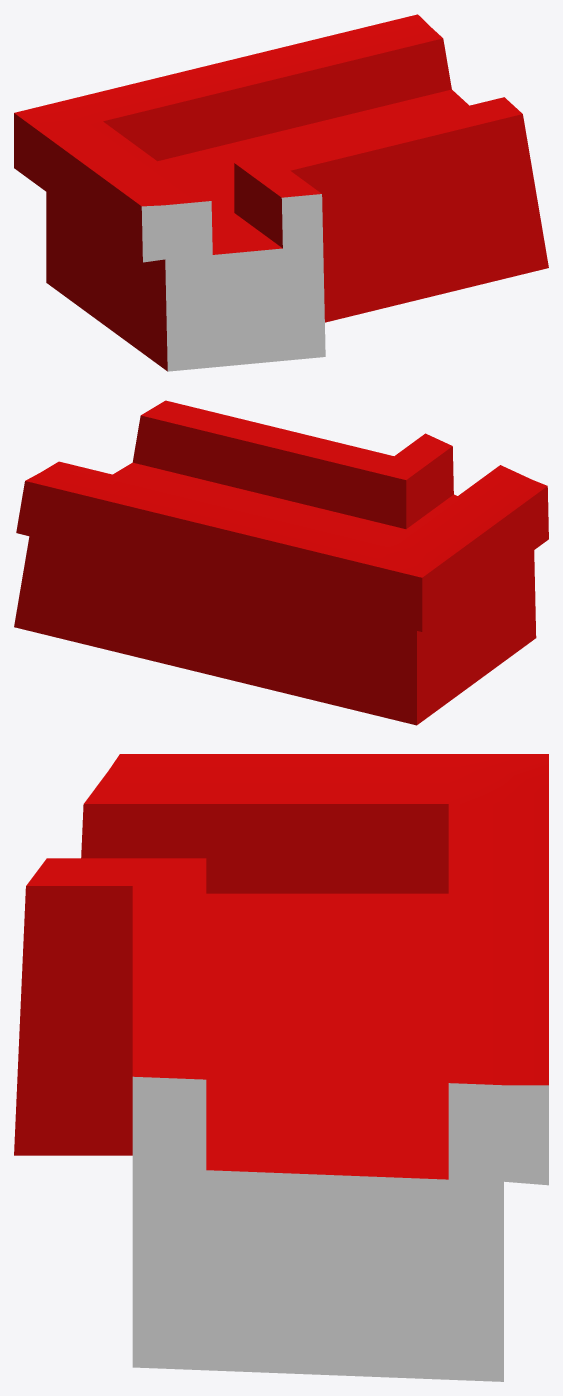
File: mdl_ciudadela_pared_fracturepart12.fbx
The picture shows the model from 3 angles, top to bottom: view 1: azimuth 30°, elevation 25°; view 2: azimuth 150°, elevation 25°; view 3: azimuth 270°, elevation 25°; orthographic projection. The views are drawn at different scales.
Visible parts, largest first — view 1: mdl_ciudadela_pared_fracturepart12; view 2: mdl_ciudadela_pared_fracturepart12; view 3: mdl_ciudadela_pared_fracturepart12.
Boxes of the visible parts, x1,y1,x2,y2 form: mdl_ciudadela_pared_fracturepart12: (14,14,548,371); mdl_ciudadela_pared_fracturepart12: (14,400,548,725); mdl_ciudadela_pared_fracturepart12: (14,754,548,1381).
Bounding box in the file's own units: 11.46 × 4.21 × 7.37.
